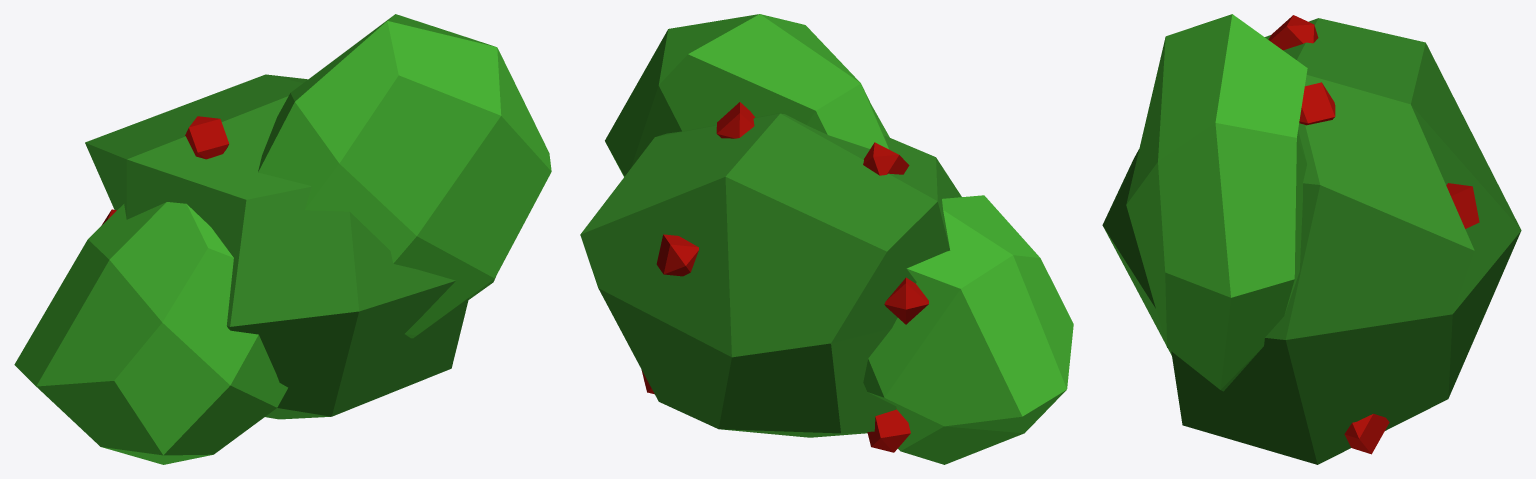
The model's file is shrubbery4.fbx.
3 views of the same model, side by side, from view 1: azimuth 30°, elevation 25°; view 2: azimuth 150°, elevation 25°; view 3: azimuth 270°, elevation 25° (orthographic). The views are drawn at different scales.
Parts seen in each view (by area): view 1: Shrubbery 4; view 2: Shrubbery 4; view 3: Shrubbery 4.
Boxes of the visible parts, x1,y1,x2,y2 form: Shrubbery 4: (14,14,551,464); Shrubbery 4: (580,14,1073,464); Shrubbery 4: (1102,14,1521,464).
Bounding box in the file's own units: 21142 × 16492 × 13627.
